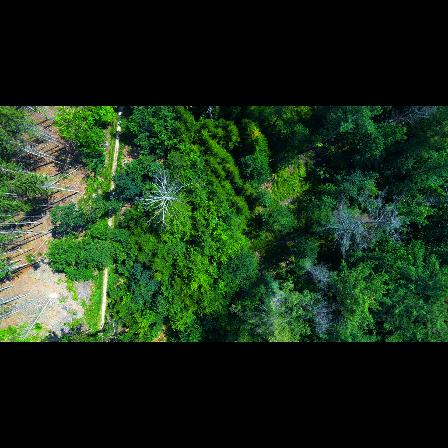Dead: (136, 163, 197, 228), (360, 198, 406, 242), (290, 257, 336, 293), (299, 297, 340, 337), (323, 206, 357, 248)
